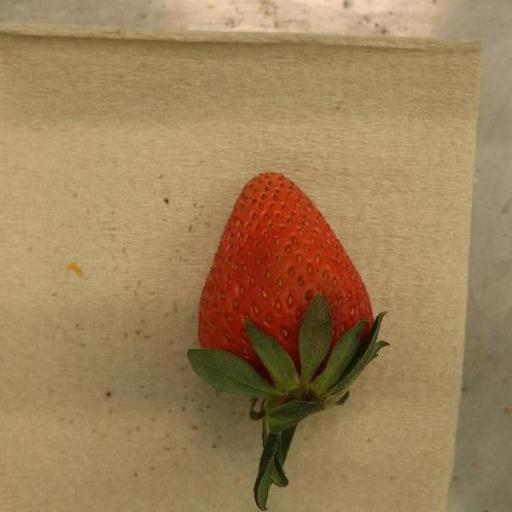Strawberry: (187, 173, 391, 512)
